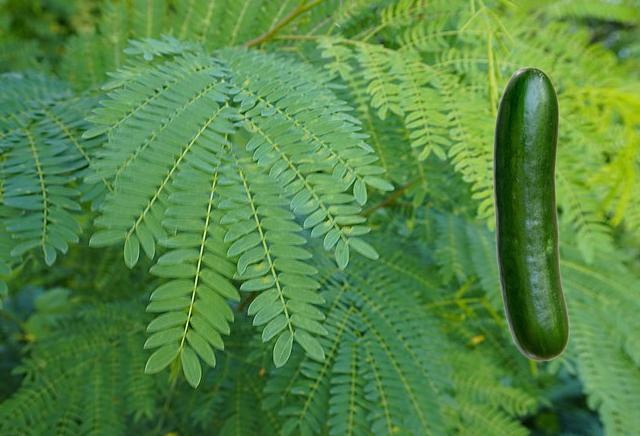cucumber: (492, 66, 568, 360)
